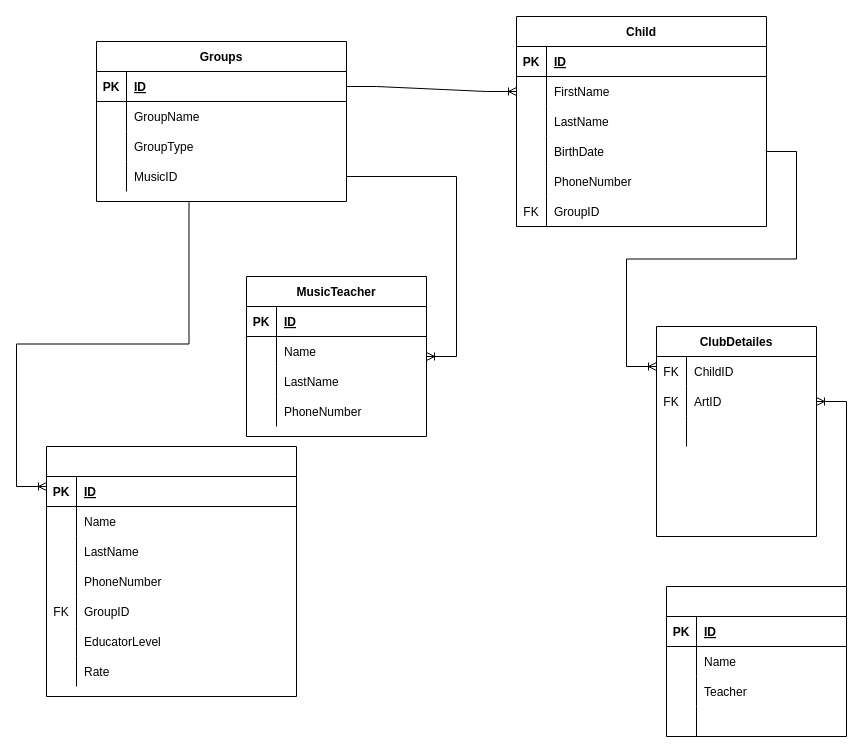
Image size: 863x753. Some labels were removed from this diagram. The shapes that lost their labels are listed below. From the top down, each one's box as (x1, y1, x2, y2) in pixels, then its label:
(46, 446, 296, 696): Educators
(666, 586, 846, 736): ArtClub
